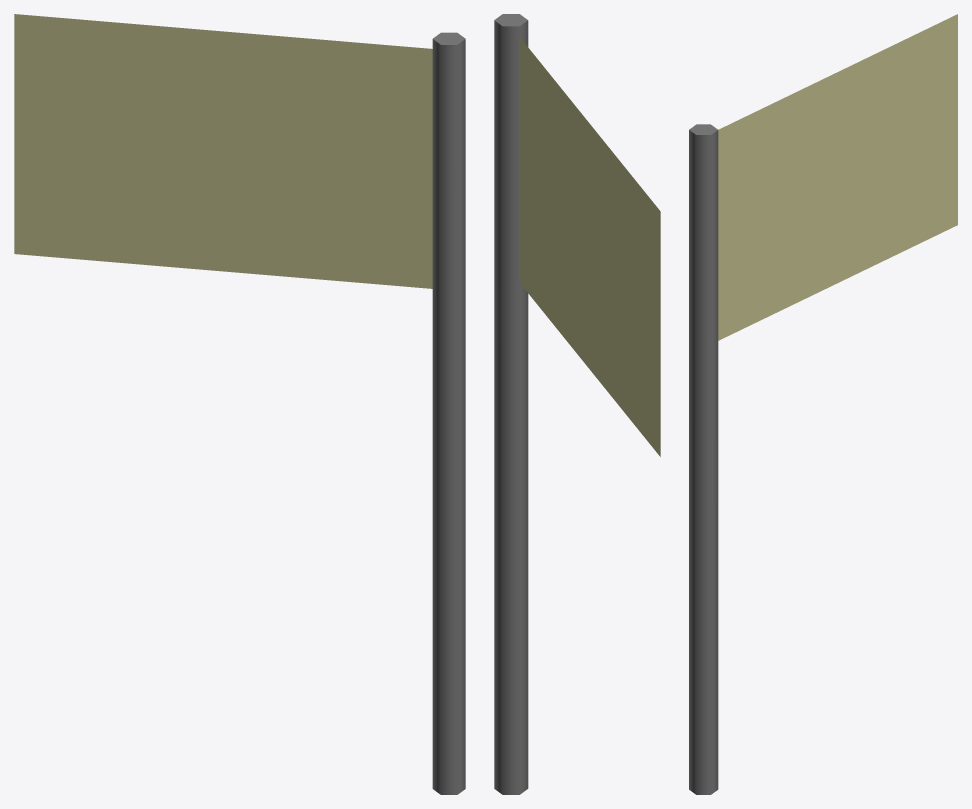
3 renders of one model, left to right at view 1: azimuth 30°, elevation 25°; view 2: azimuth 150°, elevation 25°; view 3: azimuth 270°, elevation 25°, orthographic. The views are drawn at different scales.
Parts seen in each view (by area): view 1: flag, Cylinder; view 2: flag, Cylinder; view 3: flag, Cylinder.
Part boxes in pixels (left/top/right/bottom): flag: left=14, top=14, right=432, bottom=288; Cylinder: left=432, top=32, right=465, bottom=794; flag: left=519, top=37, right=660, bottom=456; Cylinder: left=494, top=14, right=528, bottom=794; flag: left=718, top=14, right=957, bottom=340; Cylinder: left=689, top=124, right=718, bottom=794.
Size of the model in its own units: 0.4225 by 1 by 0.3692.
